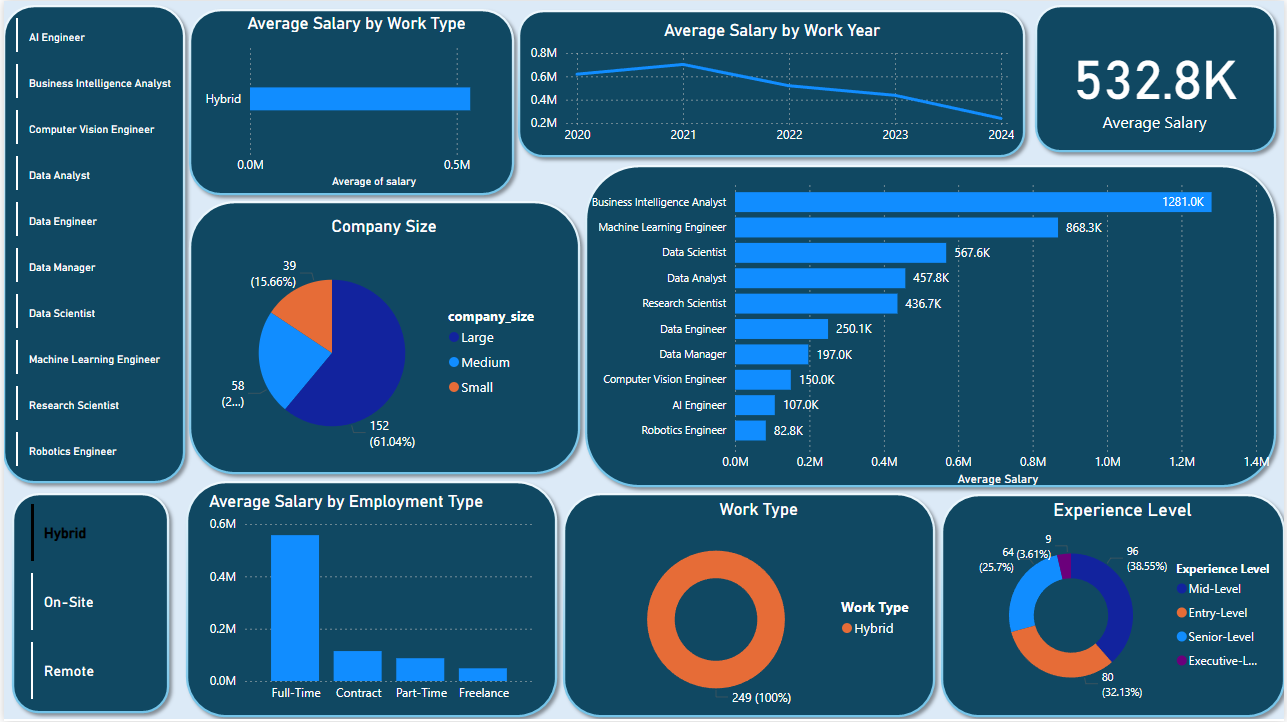

What the dashboard file says about the page in this screenshot:
{"tool":"powerbi","page":{"name":"Page 1","canvas":[1280,720],"ordinal":0},"visuals":[{"type":"advancedSlicerVisual","fields":{"Values":["df_cleaned (1).Cleaned_job_titles"]},"box":[7.1,12.2,184.8,466.5],"z":0},{"type":"card","fields":{"Values":["Avg(df_cleaned (1).salary)"]},"box":[1039.1,12.2,222.5,139.8],"z":1000},{"type":"clusteredBarChart","fields":{"Category":["df_cleaned (1).Cleaned_job_titles"],"Y":["Avg(df_cleaned (1).salary)"]},"box":[570.6,168.4,705.3,320.5],"z":2000},{"type":"donutChart","title":"Work Type","fields":{"Category":["df_cleaned (1).work_type"],"Y":["CountNonNull(df_cleaned (1).work_type)"]},"box":[581.8,498.1,345,221.5],"z":3000},{"type":"donutChart","title":"Experience Level","fields":{"Category":["df_cleaned (1).experience_level"],"Y":["CountNonNull(df_cleaned (1).experience_level)"]},"box":[957.4,498.1,322.6,212.3],"z":5000},{"type":"lineChart","title":"Average Salary by Work Year","fields":{"Category":["df_cleaned (1).work_year"],"Y":["Avg(df_cleaned (1).salary)"]},"box":[520.6,19.4,494,132.7],"z":6000},{"type":"pieChart","title":"Company Size","fields":{"Category":["df_cleaned (1).company_size"],"Y":["CountNonNull(df_cleaned (1).company_size)"]},"box":[207.2,215.4,346,254.2],"z":7000},{"type":"advancedSlicerVisual","fields":{"Values":["df_cleaned (1).work_type"]},"box":[22.5,498.1,132.7,206.2],"z":7001},{"type":"columnChart","title":"Average Salary by Employment Type","fields":{"Category":["df_cleaned (1).employment_type"],"Y":["Avg(df_cleaned (1).salary)"]},"box":[200.1,490,334.8,220.5],"z":7002},{"type":"barChart","title":"Average Salary by Work Type","fields":{"Y":["Avg(df_cleaned (1).salary)"],"Category":["df_cleaned (1).work_type"]},"box":[191.9,12.2,321.5,178.6],"z":7003}]}

Visuals, with their boxes in screenshot pixels (x1, y1, x2, y2), scaled from the page's 1280x720 canvas onto the 1287x722 screenshot:
advancedSlicerVisual - df_cleaned (1).Cleaned_job_titles: BBox(7, 12, 193, 480)
card - Avg(df_cleaned (1).salary): BBox(1045, 12, 1268, 152)
clusteredBarChart - df_cleaned (1).Cleaned_job_titles x Avg(df_cleaned (1).salary): BBox(574, 169, 1283, 490)
"Work Type" donutChart: BBox(585, 499, 932, 721)
"Experience Level" donutChart: BBox(963, 499, 1286, 712)
"Average Salary by Work Year" lineChart: BBox(523, 19, 1020, 153)
"Company Size" pieChart: BBox(208, 216, 556, 471)
advancedSlicerVisual - df_cleaned (1).work_type: BBox(23, 499, 156, 706)
"Average Salary by Employment Type" columnChart: BBox(201, 491, 538, 712)
"Average Salary by Work Type" barChart: BBox(193, 12, 516, 191)
